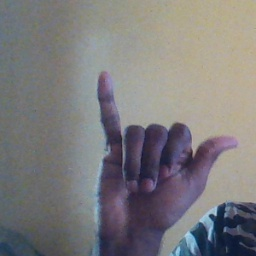J: (93, 69, 240, 224)
